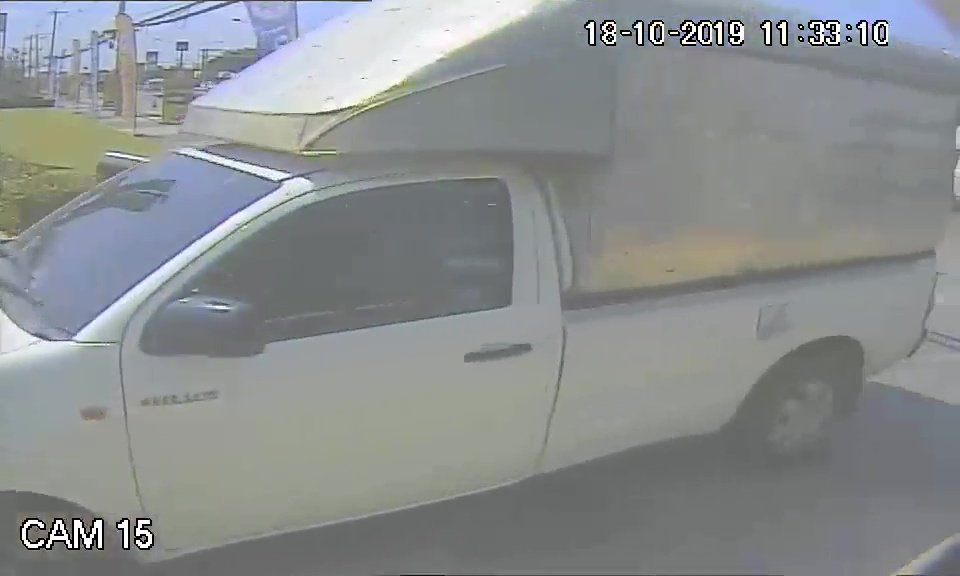pickup: (6, 120, 940, 518)
